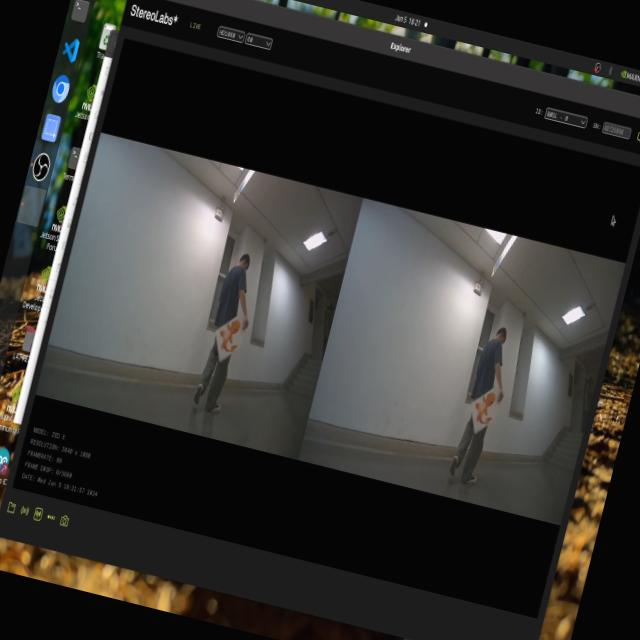red: (456, 384, 498, 434), (216, 322, 245, 354)
